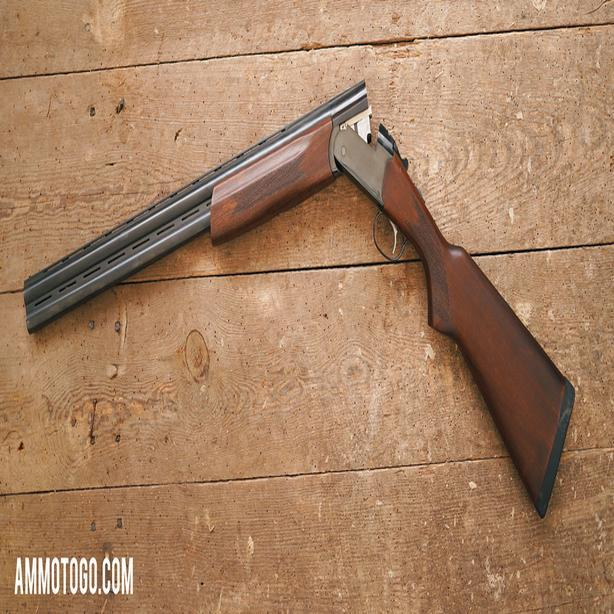Firearm: (18, 65, 587, 514)
